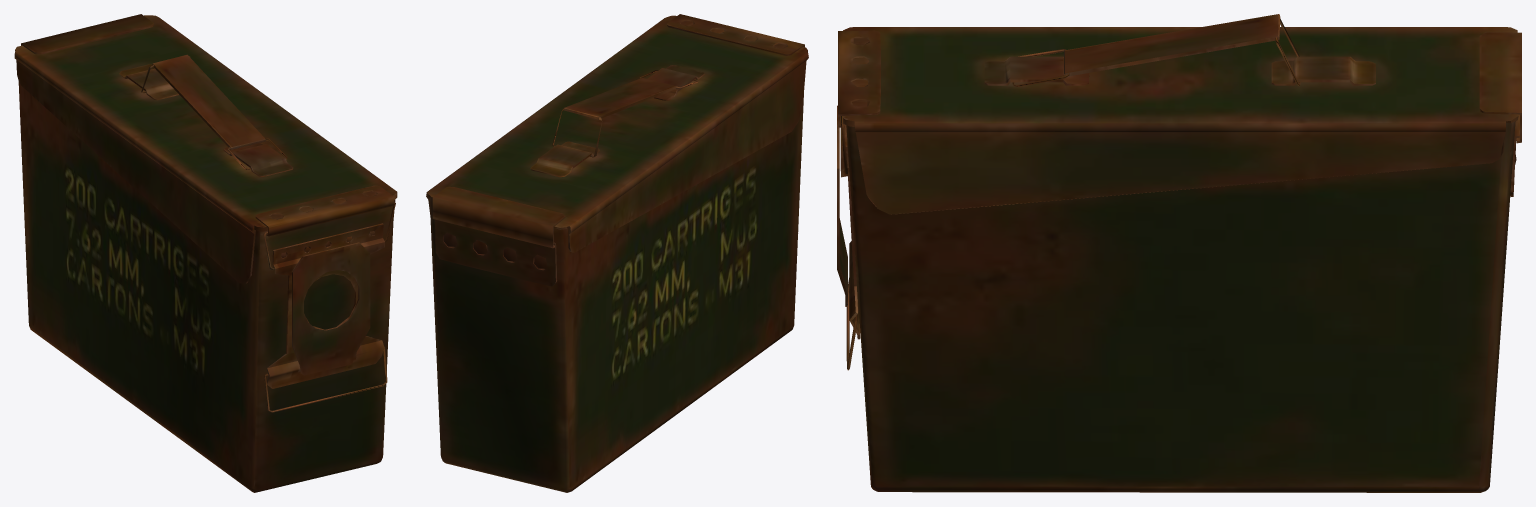
File: ammo_box.glb
The picture shows the model from 3 angles, left to right: view 1: azimuth 30°, elevation 25°; view 2: azimuth 150°, elevation 25°; view 3: azimuth 270°, elevation 25°; orthographic projection. The views are drawn at different scales.
Visible parts, largest first — view 1: ammo_box_handle_ring_b; view 2: ammo_box_handle_ring_b; view 3: ammo_box_handle_ring_b.
Boxes of the visible parts, x1,y1,x2,y2 form: ammo_box_handle_ring_b: [14, 14, 397, 492]; ammo_box_handle_ring_b: [426, 14, 808, 492]; ammo_box_handle_ring_b: [837, 14, 1521, 492].
Size of the model in its own units: 0.0864 by 0.1773 by 0.2576.
Materials: 1 (1 with a texture image).
